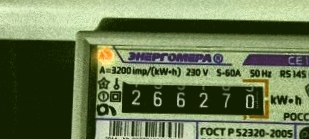0: (243, 92, 256, 109)
2: (128, 87, 142, 106), (197, 90, 209, 108)
6: (174, 90, 187, 109), (151, 89, 164, 107)
7: (220, 91, 232, 109)
screen: (111, 72, 275, 125)
